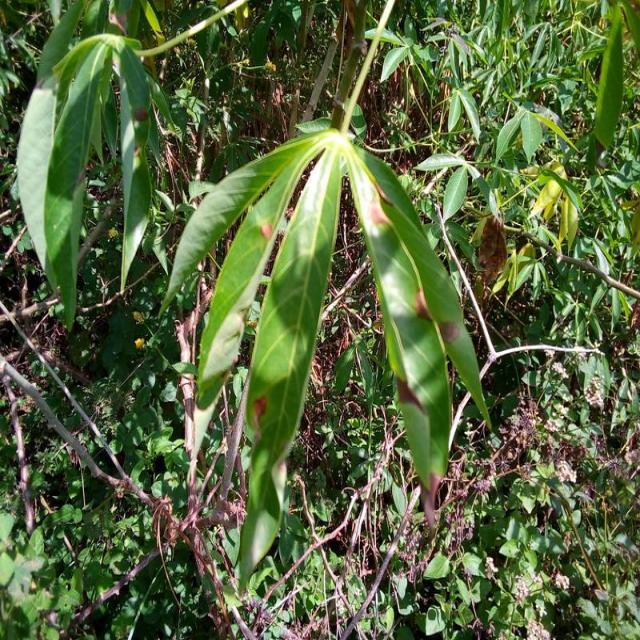cassava leaf: (162, 108, 491, 588), (237, 133, 346, 591)
